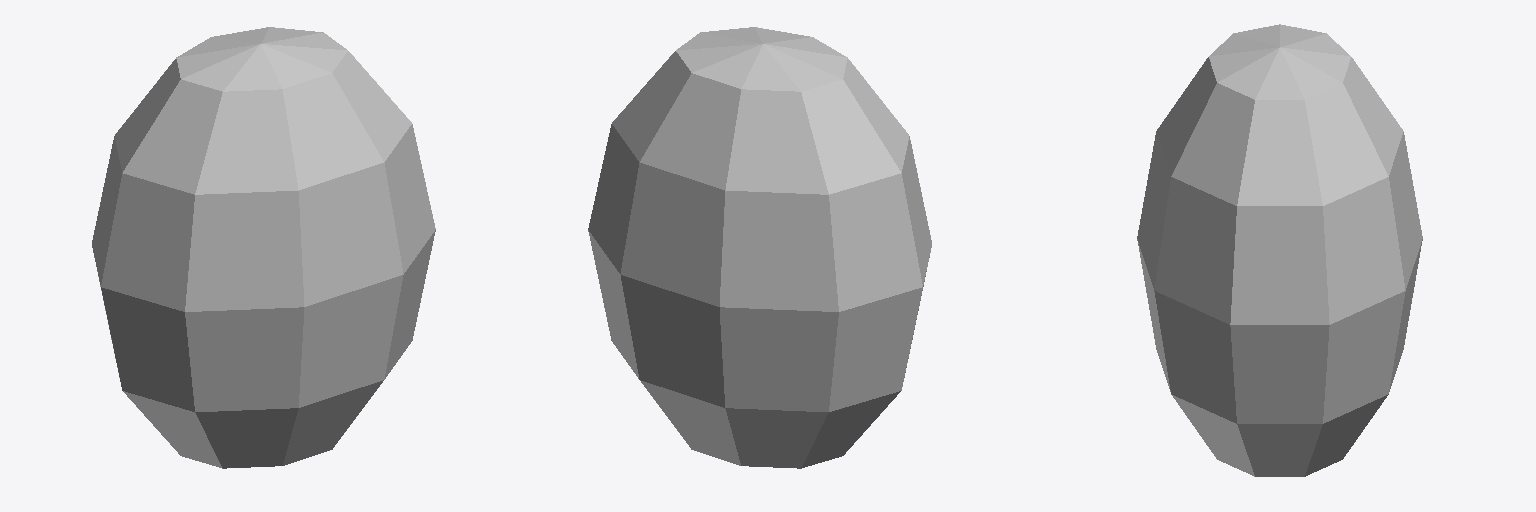
Rendered from body.obj.
3 renders of one model, left to right at view 1: azimuth 30°, elevation 25°; view 2: azimuth 150°, elevation 25°; view 3: azimuth 270°, elevation 25°, orthographic.
Visible parts, largest first — view 1: Sphere.001; view 2: Sphere.001; view 3: Sphere.001.
Boxes of the visible parts, x1=… form: Sphere.001: x1=92, y1=27, x2=435, y2=468; Sphere.001: x1=588, y1=27, x2=931, y2=468; Sphere.001: x1=1137, y1=24, x2=1422, y2=476.
Size of the model in its own units: 1.44 by 1.87 by 1.15.